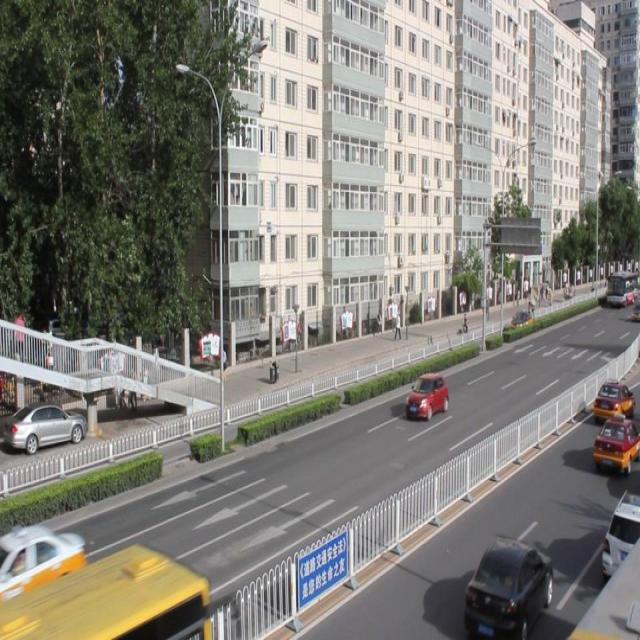car: (464, 528, 550, 640), (600, 488, 640, 574), (592, 412, 640, 476), (406, 372, 446, 418), (593, 378, 631, 423), (507, 309, 532, 335)
van: (0, 541, 210, 640), (564, 531, 640, 640)
